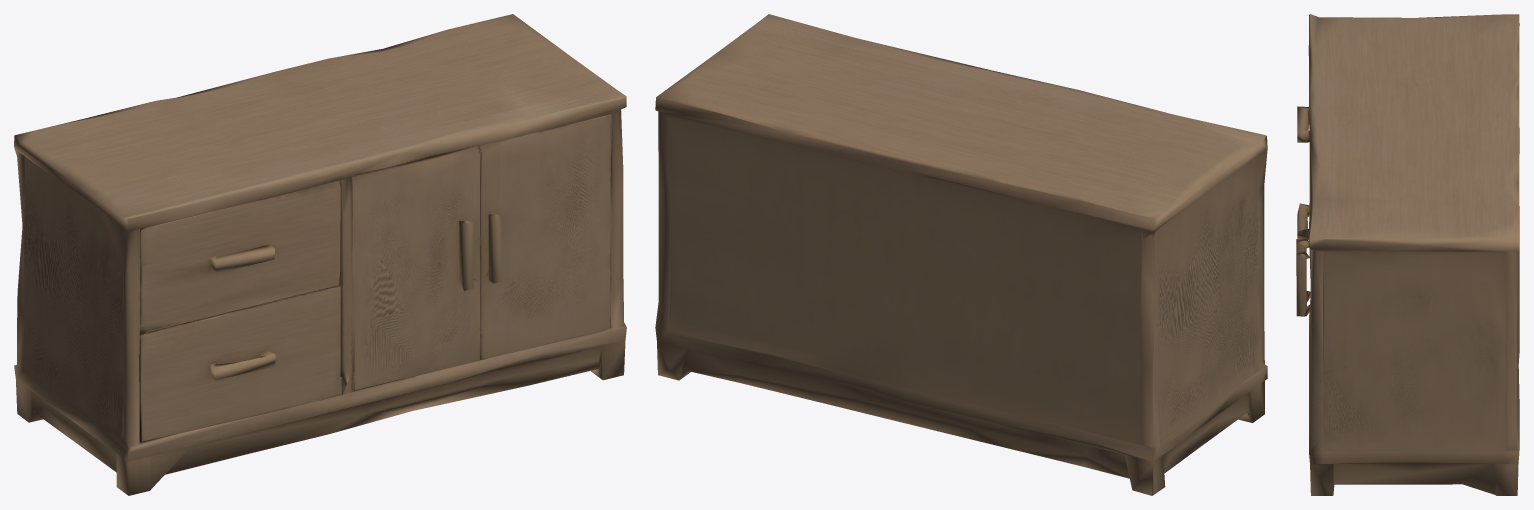
The model's file is ENV_STORAGE_v001_RAW.glb.
3 renders of one model, left to right at view 1: azimuth 30°, elevation 25°; view 2: azimuth 150°, elevation 25°; view 3: azimuth 270°, elevation 25°, orthographic. The views are drawn at different scales.
Visible parts, largest first — view 1: tripo_node_aba9ac8c-9efe-4532-b956-e98b4e7e57cf; view 2: tripo_node_aba9ac8c-9efe-4532-b956-e98b4e7e57cf; view 3: tripo_node_aba9ac8c-9efe-4532-b956-e98b4e7e57cf.
Boxes of the visible parts, x1=… form: tripo_node_aba9ac8c-9efe-4532-b956-e98b4e7e57cf: x1=14, y1=14, x2=626, y2=495; tripo_node_aba9ac8c-9efe-4532-b956-e98b4e7e57cf: x1=655, y1=14, x2=1267, y2=495; tripo_node_aba9ac8c-9efe-4532-b956-e98b4e7e57cf: x1=1296, y1=14, x2=1519, y2=495.
Size of the model in its own units: 0.9781 by 0.523 by 0.4099.
1 material, 1 textured.
